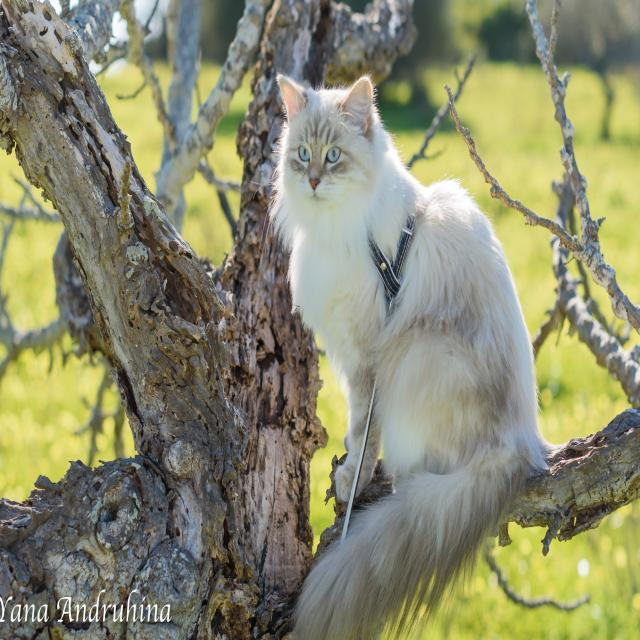Neva Masquerade: (271, 67, 547, 640)
